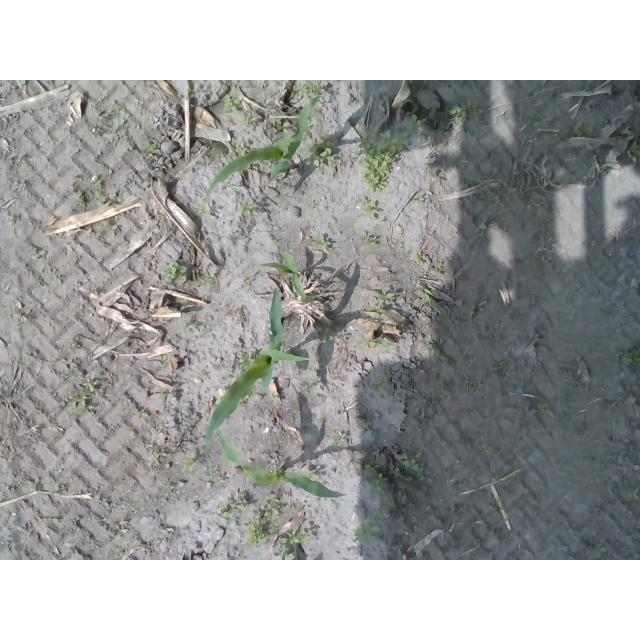Maize: (204, 286, 311, 458), (205, 96, 324, 200), (217, 430, 347, 499), (259, 254, 315, 302)
Weeds: (352, 124, 410, 193), (68, 373, 99, 416), (307, 133, 344, 167), (364, 462, 400, 490), (290, 82, 331, 102), (448, 100, 484, 122), (430, 343, 454, 370), (561, 121, 595, 139), (260, 492, 281, 521), (159, 260, 188, 280), (279, 527, 311, 545), (374, 290, 395, 315), (361, 336, 391, 351), (248, 518, 264, 544), (362, 198, 382, 218), (356, 525, 381, 540), (410, 113, 427, 135), (401, 450, 418, 471), (223, 93, 241, 112), (622, 351, 640, 366), (275, 118, 290, 134), (240, 352, 254, 369), (239, 200, 253, 216), (145, 143, 162, 156), (312, 235, 327, 249), (109, 127, 120, 145), (181, 459, 196, 472), (94, 178, 103, 199), (175, 322, 192, 333), (335, 436, 349, 449), (466, 303, 479, 317), (32, 248, 47, 260), (274, 552, 296, 560), (629, 141, 640, 157), (232, 503, 249, 513), (440, 311, 456, 321), (66, 341, 79, 353), (161, 387, 175, 398), (188, 84, 198, 99), (241, 115, 256, 125), (148, 448, 160, 460), (72, 190, 83, 203), (135, 407, 149, 417), (371, 382, 386, 391), (413, 252, 424, 264), (464, 376, 474, 388), (365, 236, 376, 246), (477, 221, 487, 231), (422, 295, 431, 306), (223, 510, 233, 519), (414, 196, 424, 204), (238, 148, 246, 156), (119, 530, 129, 535), (195, 266, 202, 273), (207, 277, 213, 284)
